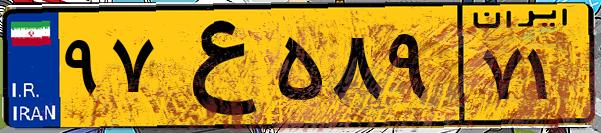1: (525, 38, 570, 115)
5: (270, 28, 330, 110)
7: (475, 38, 525, 113), (110, 28, 158, 98)
8: (330, 28, 385, 110)
9: (385, 28, 445, 110), (57, 26, 110, 100)
ع: (158, 12, 270, 120)
